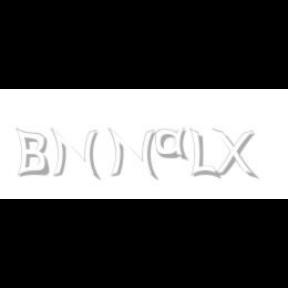B: (15, 128, 49, 178)
L: (190, 128, 218, 180)
N: (49, 128, 98, 180), (107, 128, 156, 180)
X: (212, 128, 256, 180)
a: (156, 128, 192, 160)
